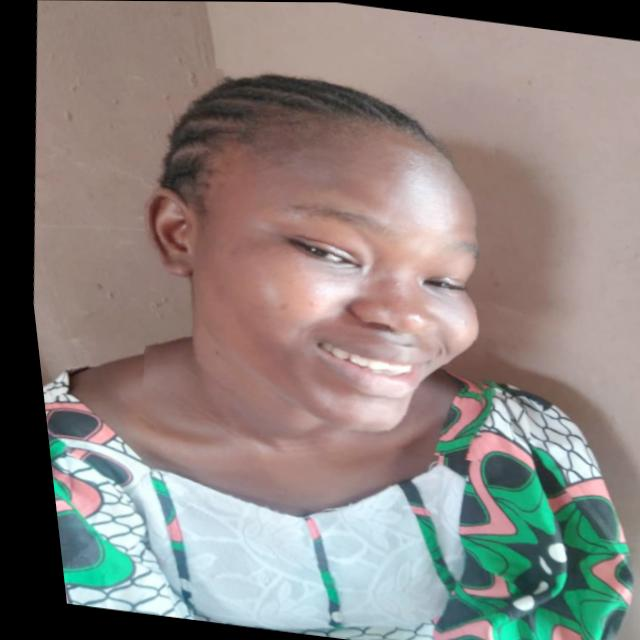happy: (103, 60, 522, 460)
